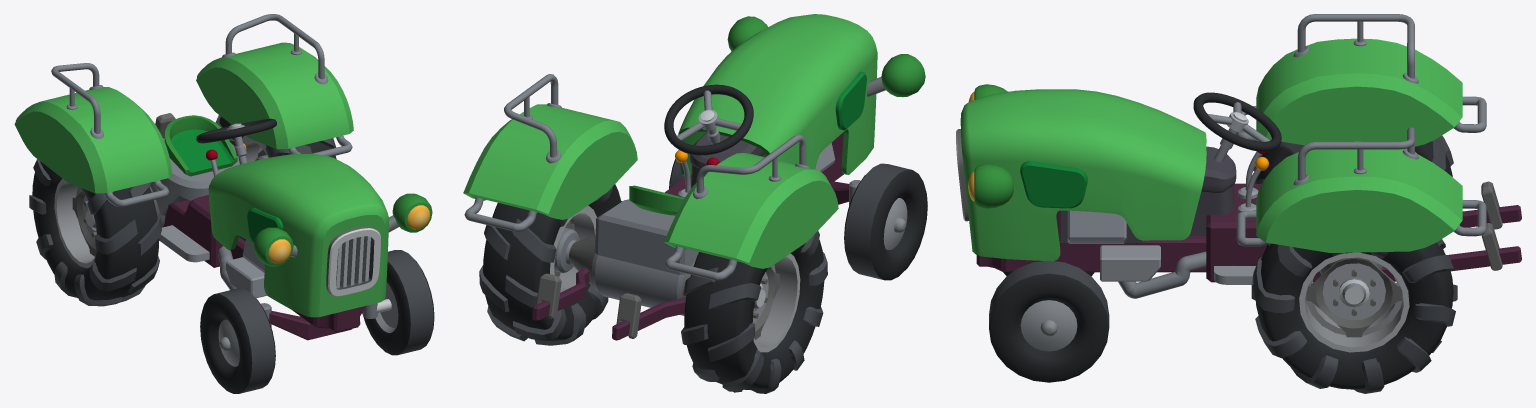
The model's file is Tractor_0_color_1.fbx.
3 renders of one model, left to right at view 1: azimuth 30°, elevation 25°; view 2: azimuth 150°, elevation 25°; view 3: azimuth 270°, elevation 25°, orthographic. The views are drawn at different scales.
Visible parts, largest first — view 1: Tractor_0_altColor_mesh, Tractor_0_Wheel_BR_mesh, Tractor_0_Wheel_FR_mesh, Tractor_0_Wheel_FL_mesh, Tractor_0_Wheel_BL_mesh; view 2: Tractor_0_altColor_mesh, Tractor_0_Wheel_BR_mesh, Tractor_0_Wheel_BL_mesh, Tractor_0_Wheel_FR_mesh; view 3: Tractor_0_altColor_mesh, Tractor_0_Wheel_BL_mesh, Tractor_0_Wheel_FL_mesh, Tractor_0_Wheel_BR_mesh.
Boxes of the visible parts, <box> form: Tractor_0_altColor_mesh: <box>14,14,432,340</box>; Tractor_0_Wheel_BR_mesh: <box>29,159,161,306</box>; Tractor_0_Wheel_FR_mesh: <box>200,288,275,393</box>; Tractor_0_Wheel_FL_mesh: <box>362,250,434,355</box>; Tractor_0_Wheel_BL_mesh: <box>215,115,336,162</box>; Tractor_0_altColor_mesh: <box>463,14,925,340</box>; Tractor_0_Wheel_BR_mesh: <box>681,231,827,393</box>; Tractor_0_Wheel_BL_mesh: <box>479,184,622,345</box>; Tractor_0_Wheel_FR_mesh: <box>844,163,927,280</box>; Tractor_0_altColor_mesh: <box>956,14,1521,298</box>; Tractor_0_Wheel_BL_mesh: <box>1251,239,1457,393</box>; Tractor_0_Wheel_FL_mesh: <box>989,260,1109,382</box>; Tractor_0_Wheel_BR_mesh: <box>1253,135,1453,184</box>.
Size of the model in its own units: 137 by 111 by 222.
